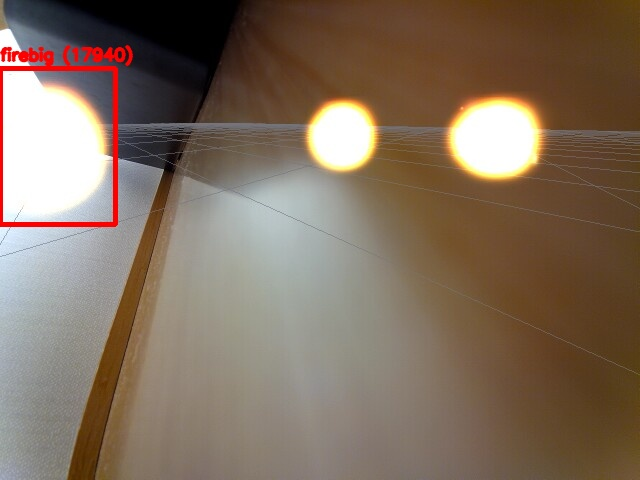firebig: (0, 68, 115, 224)
